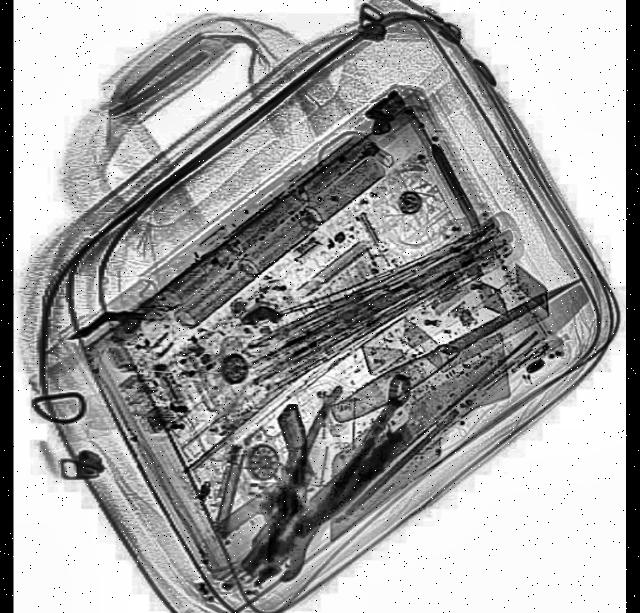Gun: (194, 401, 344, 582)
Knife: (326, 258, 589, 432)
Pliers: (229, 379, 408, 606)
Wrench: (254, 362, 427, 590)
